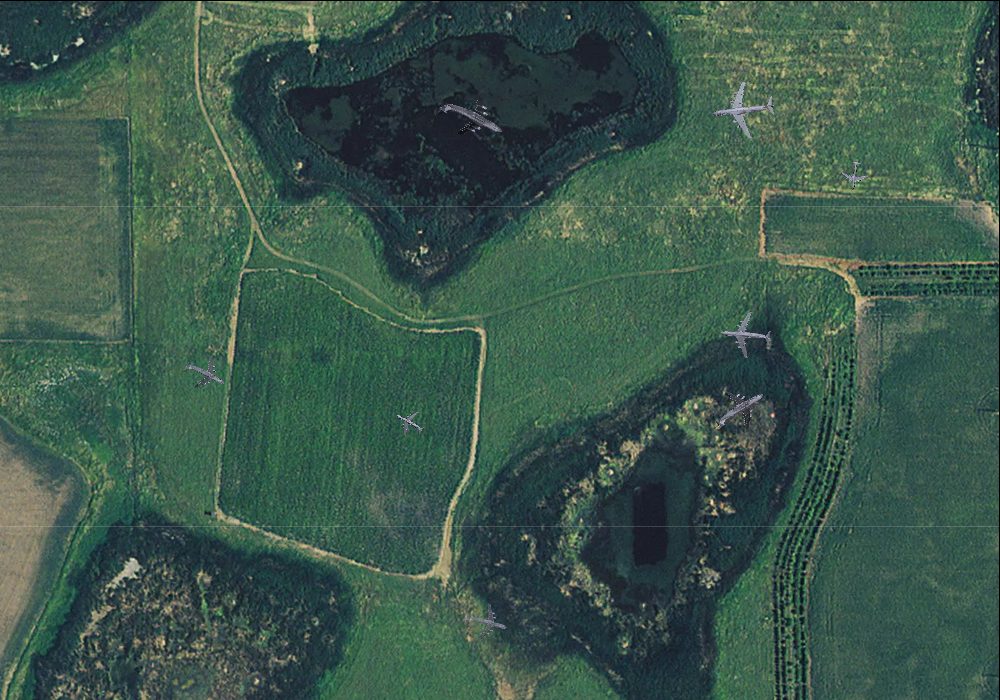plane: (426, 76, 513, 160), (703, 374, 777, 447), (709, 76, 777, 141), (175, 346, 232, 402), (718, 309, 773, 361), (459, 597, 512, 649), (389, 403, 430, 443), (839, 159, 871, 192)
